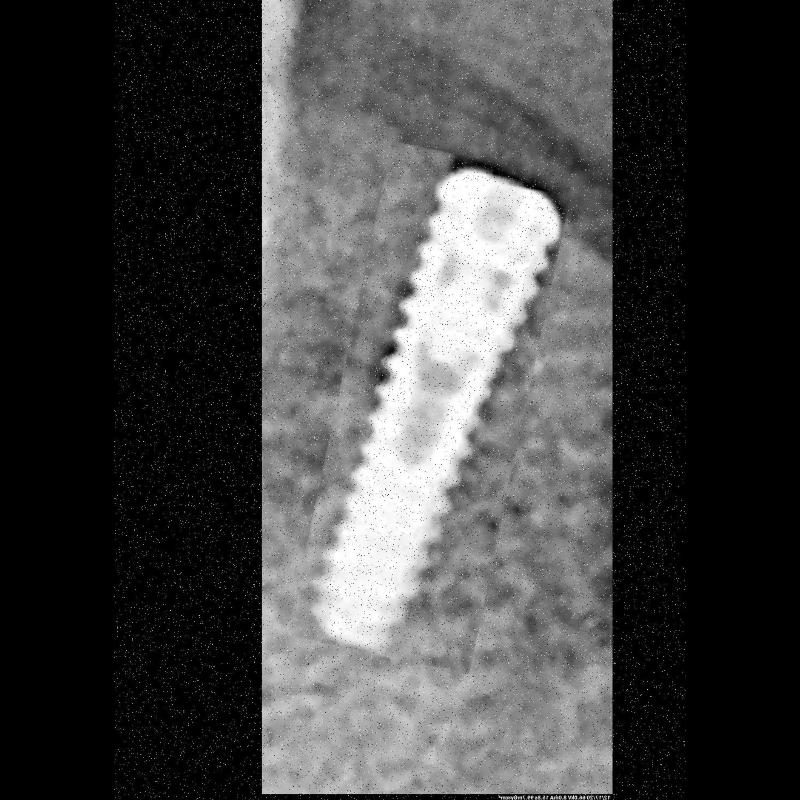osstem: (313, 148, 549, 668)
